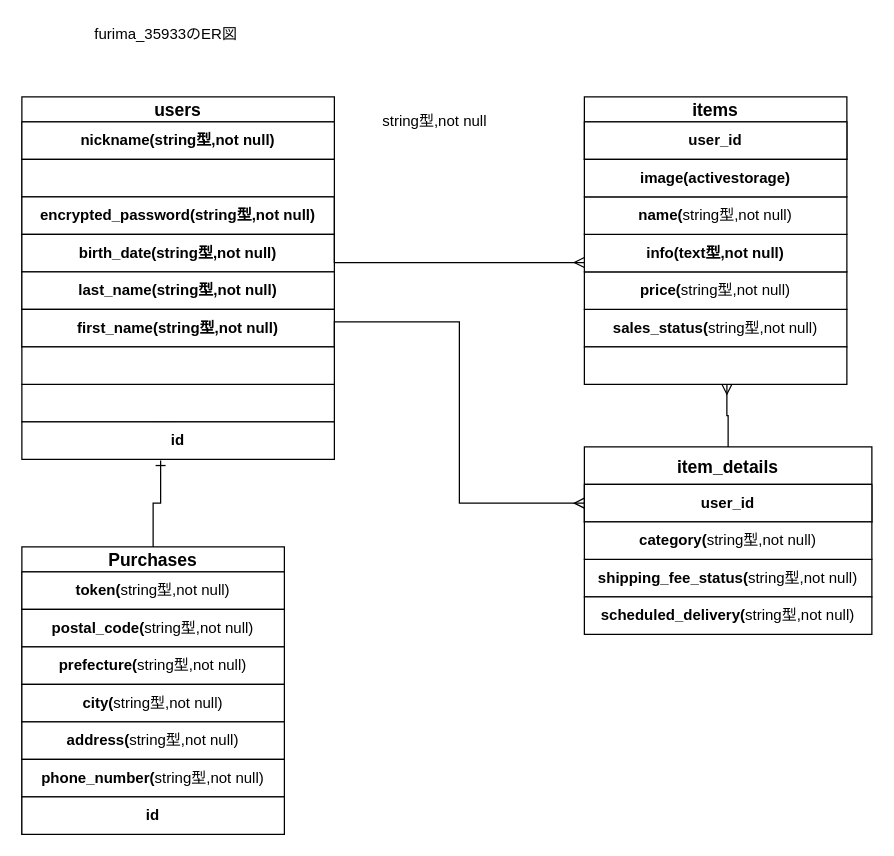
This 894x856 diagram has some shape labels left out. Each missing label, with the centre of its shape:
"email(string型,not null)" belongs at (x=177, y=177).
"first_name_kana( string型,not null)" belongs at (x=177, y=402).
"item_details_id" belongs at (x=715, y=365).
"last_name_kana( string型,not null)" belongs at (x=177, y=365).
